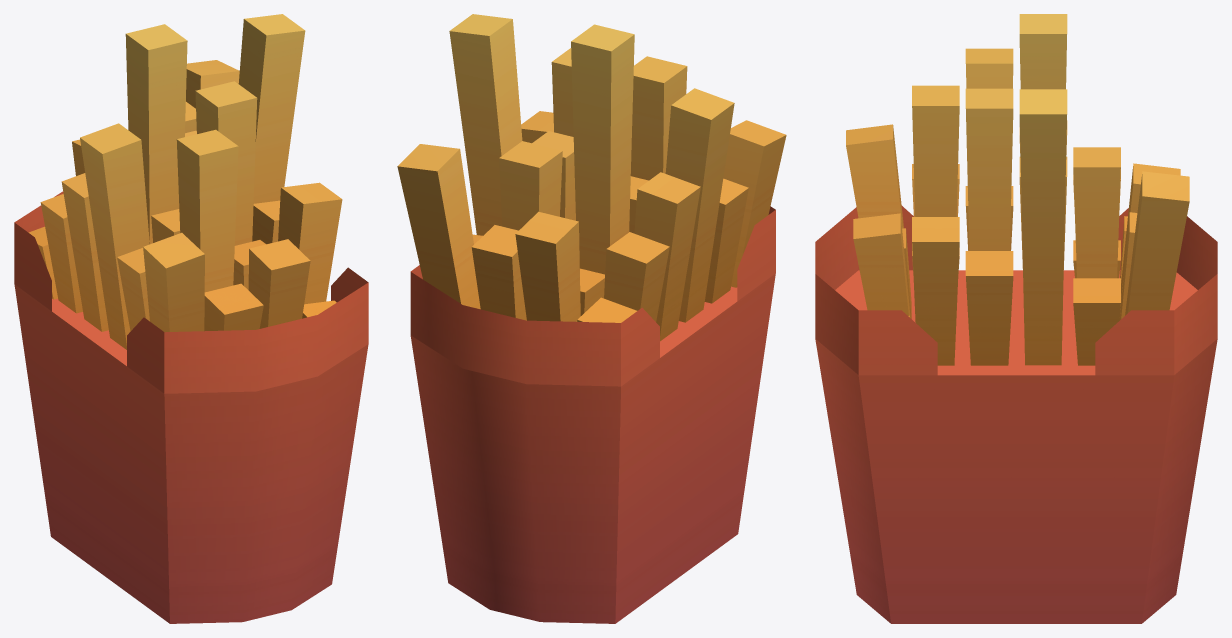
The model's file is fries-classic.glb.
The picture shows the model from 3 angles, left to right: view 1: azimuth 30°, elevation 25°; view 2: azimuth 150°, elevation 25°; view 3: azimuth 270°, elevation 25°; orthographic projection. The views are drawn at different scales.
Parts seen in each view (by area): view 1: dish; view 2: dish; view 3: dish.
Boxes of the visible parts, x1=… form: dish: x1=14, y1=14, x2=368, y2=623; dish: x1=397, y1=14, x2=786, y2=623; dish: x1=815, y1=14, x2=1217, y2=623.
Size of the model in its own units: 0.0709 by 0.1541 by 0.1028.
Materials: 1 (1 with a texture image).
